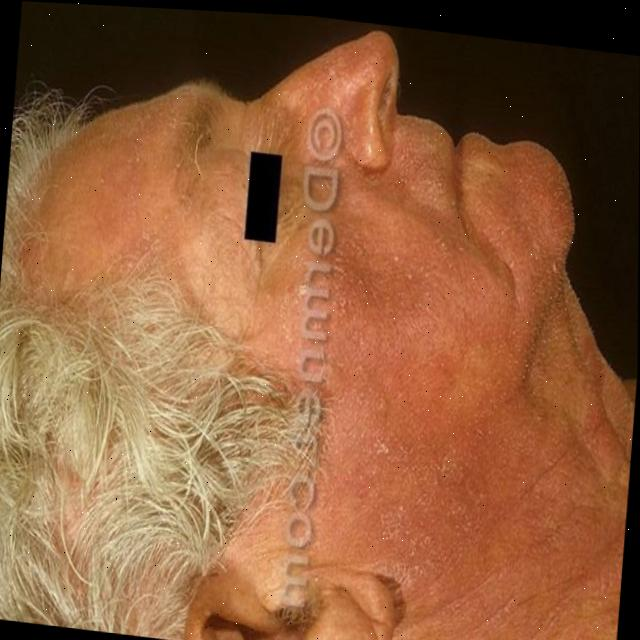Eczema: (286, 237, 554, 572)
